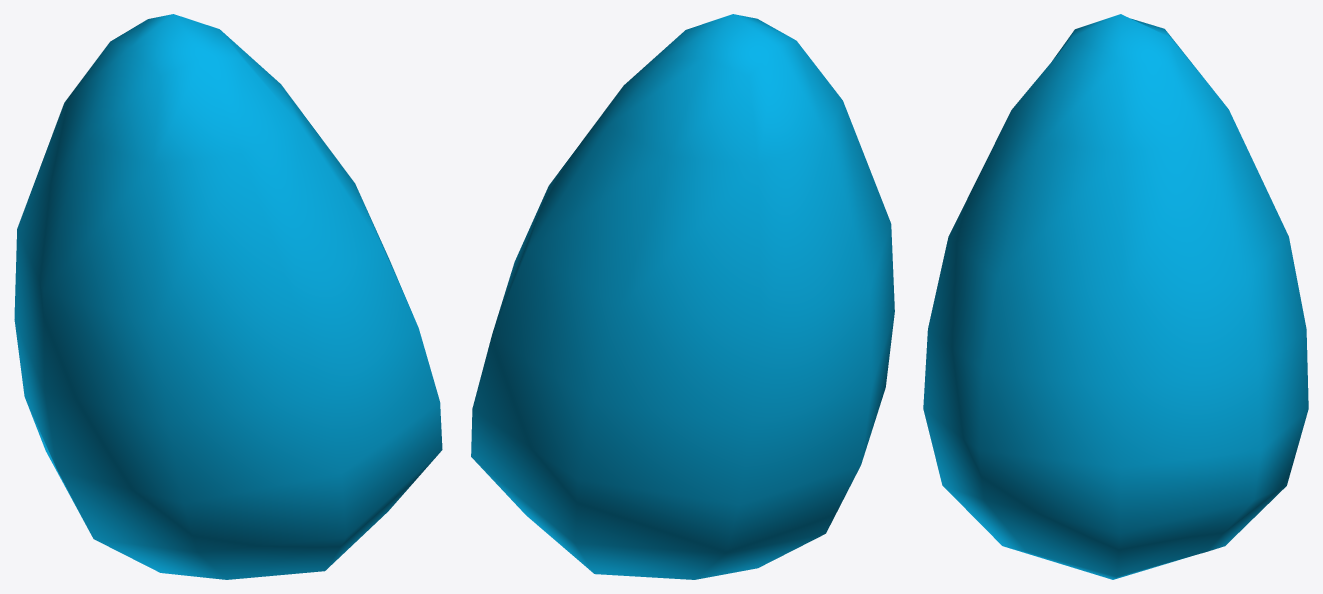
The model's file is Teardrop.fbx.
The picture shows the model from 3 angles, left to right: view 1: azimuth 30°, elevation 25°; view 2: azimuth 150°, elevation 25°; view 3: azimuth 270°, elevation 25°; orthographic projection. The views are drawn at different scales.
Visible parts, largest first — view 1: Teardrop; view 2: Teardrop; view 3: Teardrop.
Boxes of the visible parts, bbox=[...] form: Teardrop: bbox=[14, 14, 442, 579]; Teardrop: bbox=[471, 14, 894, 579]; Teardrop: bbox=[923, 14, 1308, 579].
Bounding box in the file's own units: 3.73 × 5.48 × 3.65.
